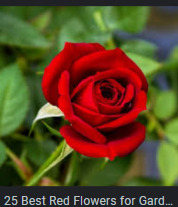RedRose: (42, 42, 147, 158)
